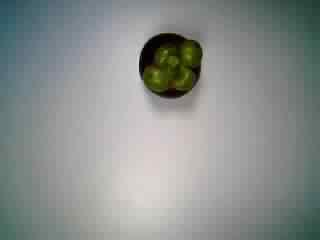mangosteen: (129, 28, 206, 111)
